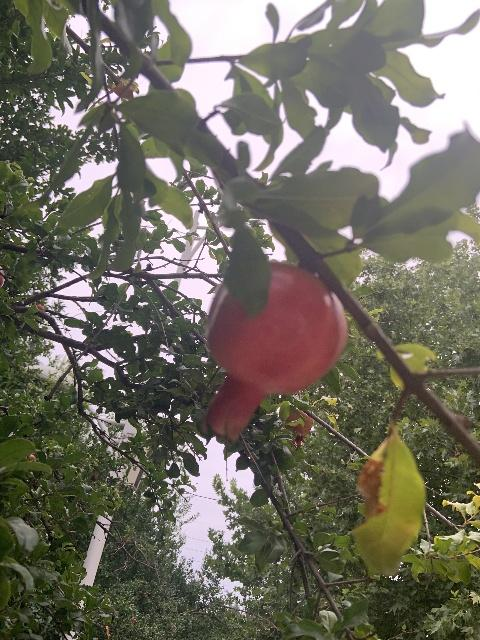ripe: (202, 263, 347, 444), (284, 407, 313, 446)
